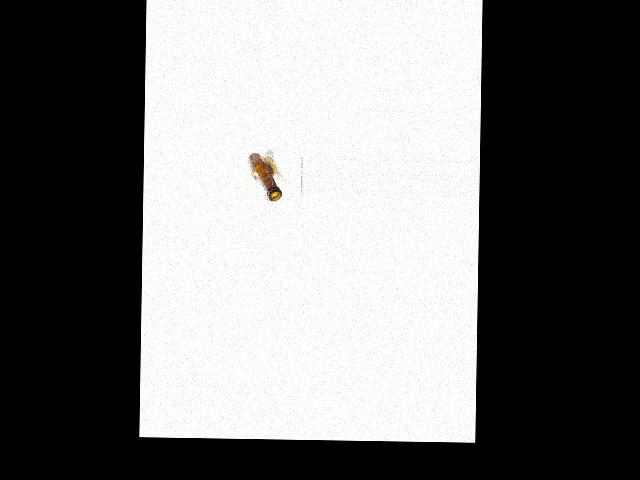beer: (247, 152, 283, 201)
